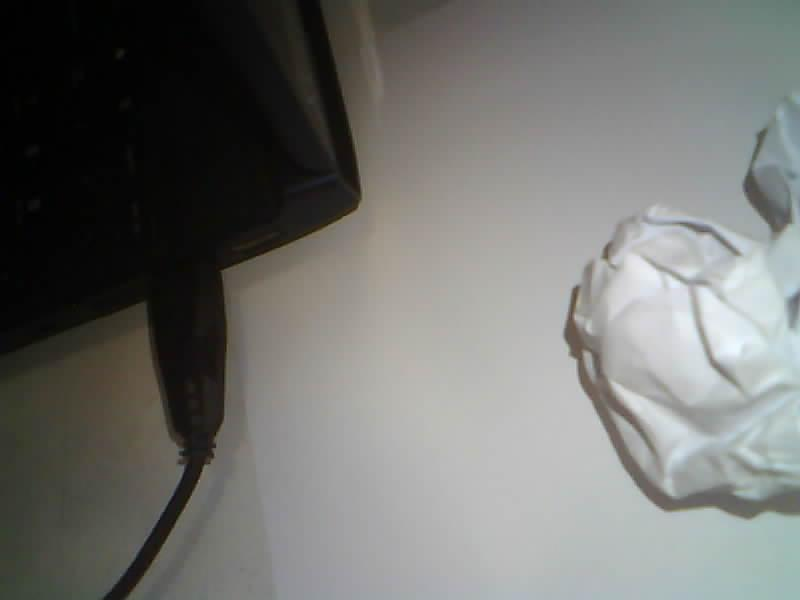biodegradable: (571, 96, 799, 512)
